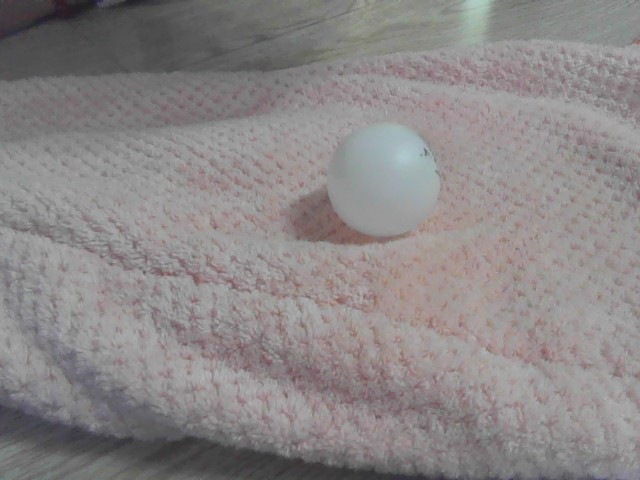ball: (329, 122, 438, 237)
